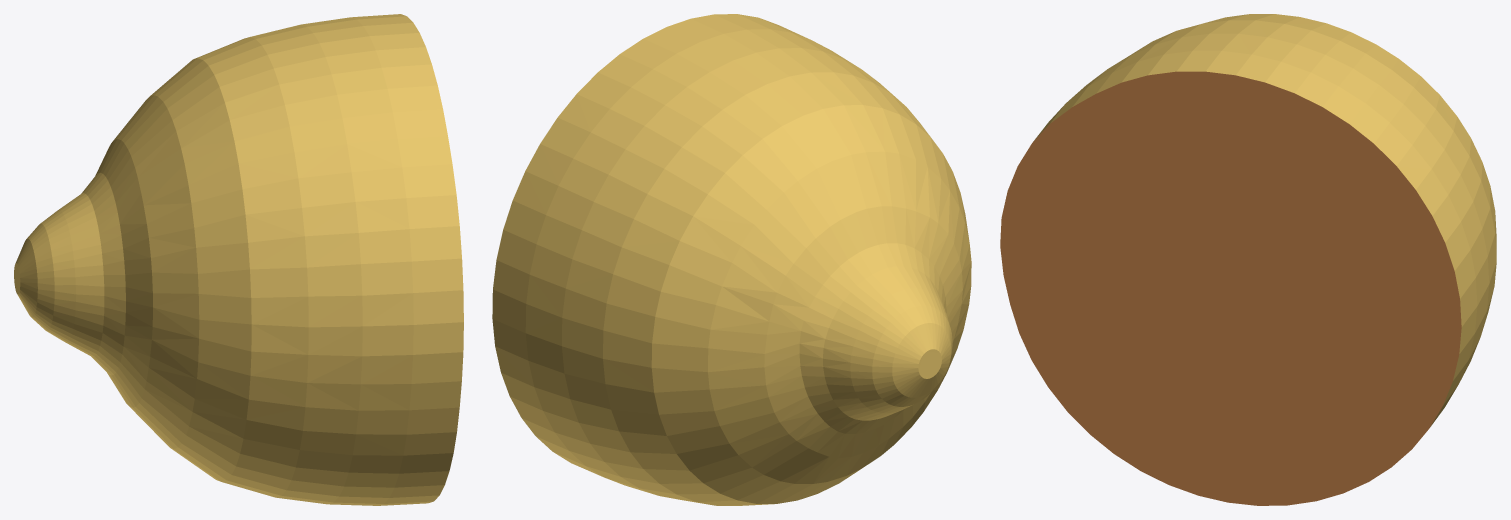
File: lemon2.dae
3 renders of one model, left to right at view 1: azimuth 30°, elevation 25°; view 2: azimuth 150°, elevation 25°; view 3: azimuth 270°, elevation 25°, orthographic. The views are drawn at different scales.
Visible parts, largest first — view 1: node; view 2: node; view 3: node.
Boxes of the visible parts, left/top/right/bottom form: node: left=14, top=14, right=463, bottom=505; node: left=492, top=14, right=971, bottom=505; node: left=1000, top=14, right=1496, bottom=505.
Bounding box in the file's own units: 31.07 × 34 × 32.86.
